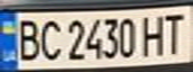0: (118, 13, 139, 60)
2: (63, 15, 87, 62)
3: (100, 15, 121, 60)
4: (84, 15, 106, 61)
B: (12, 15, 42, 62)
C: (36, 16, 63, 62)
H: (139, 11, 169, 57)
T: (157, 9, 190, 55)
